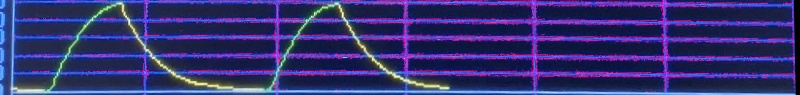normal_volume: (3, 1, 457, 95)
